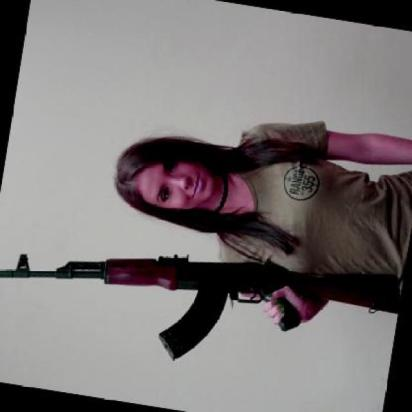Gun: (0, 204, 402, 397)
